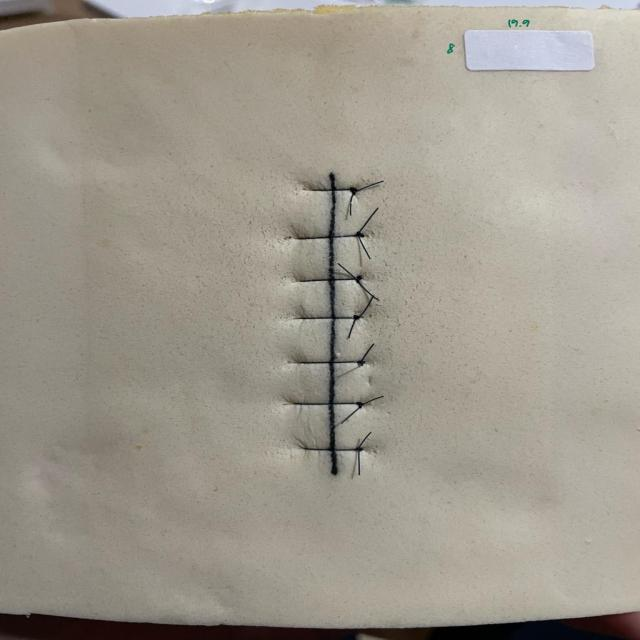knot: (347, 185, 360, 197), (353, 400, 366, 410), (353, 274, 364, 285), (354, 230, 367, 239), (351, 313, 363, 321), (355, 359, 367, 366), (354, 446, 365, 453)
leftover: (357, 206, 380, 233), (355, 280, 380, 302), (339, 405, 362, 425), (357, 294, 375, 318), (356, 234, 372, 260), (354, 179, 385, 192), (336, 262, 358, 280), (359, 342, 376, 363), (356, 430, 373, 449), (359, 395, 385, 407), (347, 317, 358, 339), (348, 190, 356, 216), (356, 448, 361, 476), (356, 362, 364, 367)
stitch: (296, 234, 360, 240), (298, 277, 359, 283), (298, 360, 360, 364), (302, 447, 360, 451), (300, 316, 357, 320), (311, 187, 353, 192), (291, 402, 359, 405)
wound: (328, 171, 337, 477)
